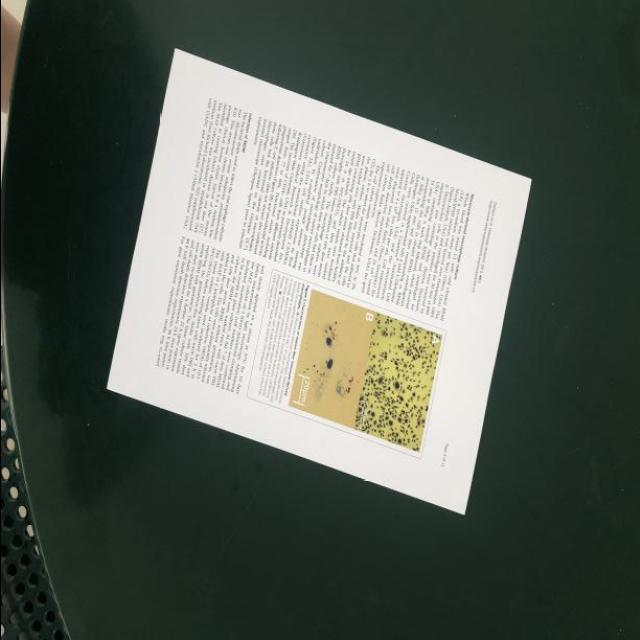kertas: (61, 48, 576, 514)
